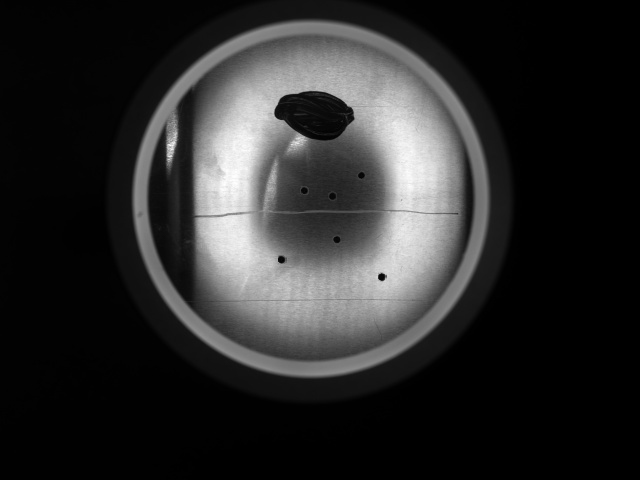ca_shang: (189, 280, 433, 321), (178, 202, 466, 228)
zang_wu: (263, 75, 363, 147)
zhen_kong: (269, 246, 295, 273), (370, 265, 396, 290), (350, 165, 376, 187), (326, 228, 350, 251), (291, 178, 316, 200), (322, 185, 344, 209)
